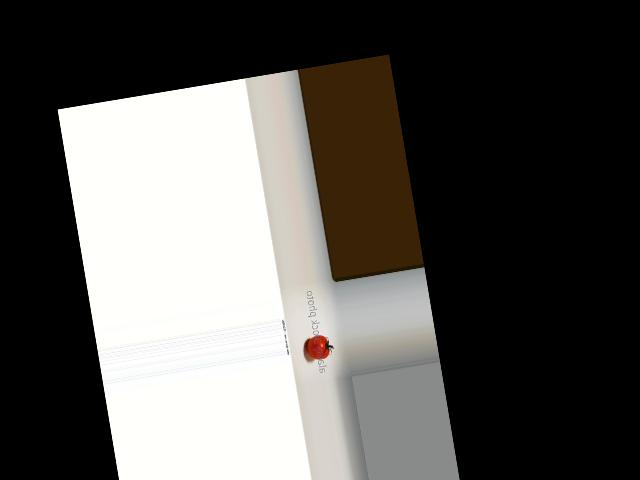tomato: (305, 333, 331, 361)
